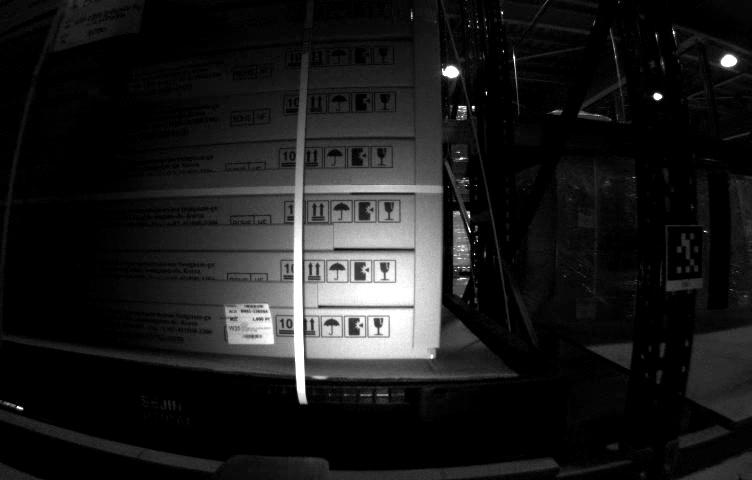True Barcode: (226, 302, 274, 346)
